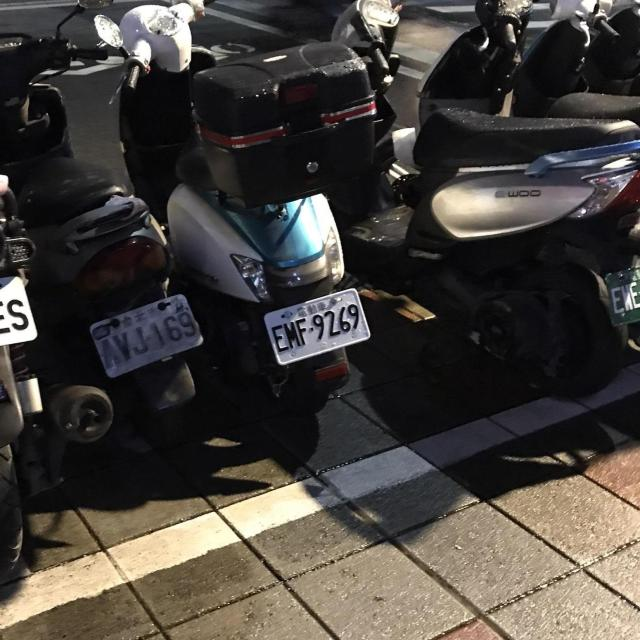W: (258, 281, 380, 368), (85, 293, 205, 378)
